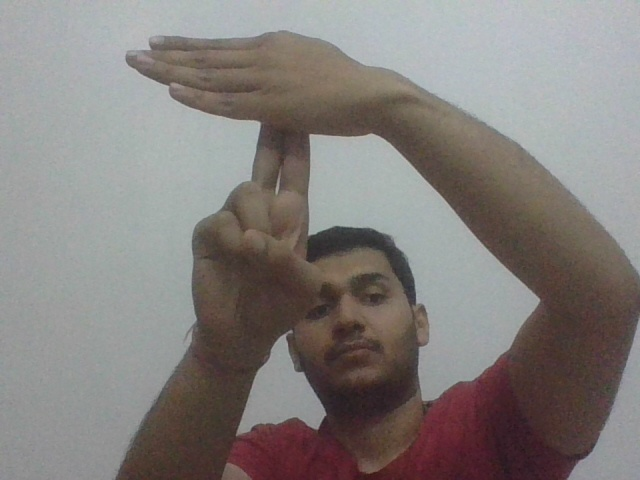N: (121, 25, 360, 189)
